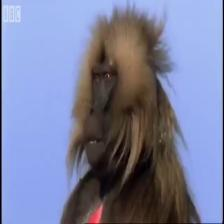monkey: (69, 7, 185, 188)
